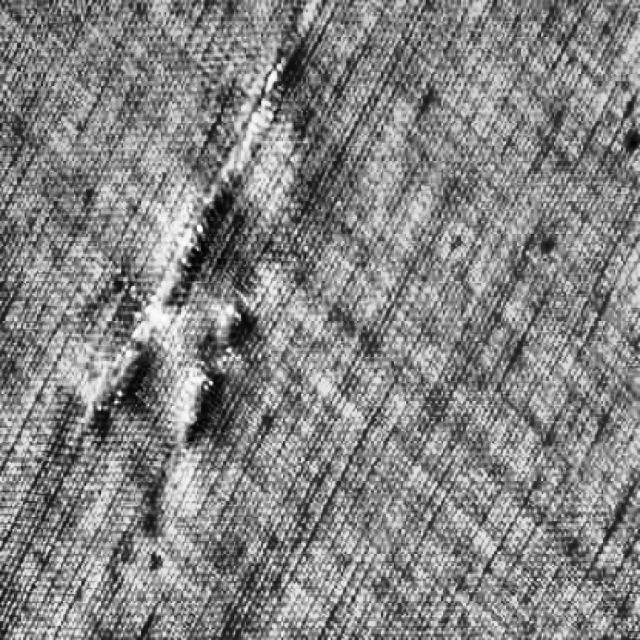thread_error: (67, 0, 330, 473)
